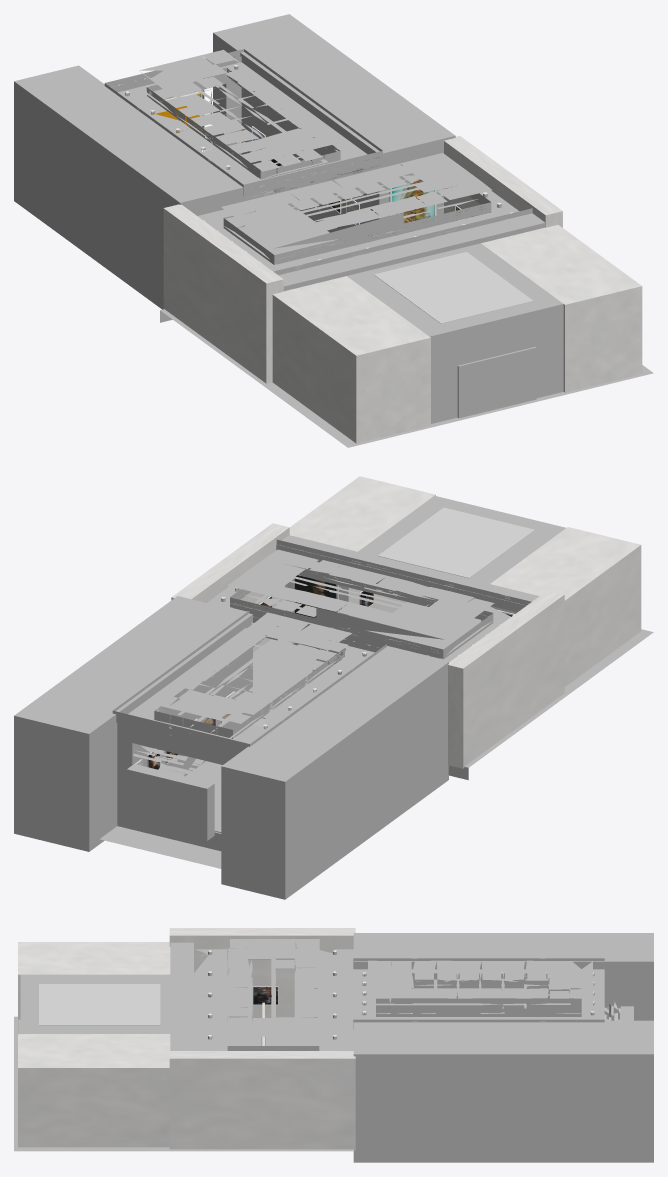
3 views of the same model, one above another, from view 1: azimuth 30°, elevation 25°; view 2: azimuth 150°, elevation 25°; view 3: azimuth 270°, elevation 25° (orthographic). The views are drawn at different scales.
Parts seen in each view (by area): view 1: marble walls_002, walls_003, marble walls_001, walls_008, walls_002, marble walls_004, roof_002, roof_001, roof_003, roof_005, rooflight_001, roof_004 (+6 smaller); view 2: marble walls_002, marble walls_001, walls_002, walls_003, roof_002, marble walls_003, roof_001, roof_005, walls_008, roof_003, rooflight_001, marble walls_004 (+5 smaller); view 3: marble walls_001, walls_001, walls_008, marble walls_002, roof_001, roof_003, roof_002, roof_005, walls_003, rooflight_001, walls_002, marble walls_004 (+4 smaller).
Part boxes in pixels (<box>): marble walls_002: <box>14,65,244,309</box>; walls_003: <box>272,276,430,443</box>; marble walls_001: <box>213,14,455,239</box>; walls_008: <box>481,224,642,392</box>; walls_002: <box>163,204,283,383</box>; marble walls_004: <box>347,243,563,423</box>; roof_002: <box>221,153,492,259</box>; roof_001: <box>137,49,347,177</box>; roof_003: <box>185,143,532,275</box>; roof_005: <box>104,49,382,195</box>; rooflight_001: <box>374,252,533,323</box>; roof_004: <box>279,213,545,291</box>; marble walls_002: <box>221,647,448,899</box>; marble walls_001: <box>14,596,252,851</box>; walls_002: <box>448,590,564,768</box>; walls_003: <box>490,527,641,686</box>; roof_002: <box>227,549,494,654</box>; marble walls_003: <box>117,718,244,851</box>; roof_001: <box>145,612,352,739</box>; roof_005: <box>112,610,386,752</box>; walls_008: <box>289,476,435,630</box>; roof_003: <box>207,539,531,662</box>; rooflight_001: <box>378,507,534,578</box>; marble walls_004: <box>358,495,565,583</box>; marble walls_001: <box>353,1020,653,1162</box>; walls_001: <box>169,1051,355,1150</box>; walls_008: <box>18,1034,169,1147</box>; marble walls_002: <box>353,933,653,1020</box>; roof_001: <box>368,960,593,1013</box>; roof_003: <box>194,949,353,1050</box>; roof_002: <box>227,939,319,1050</box>; roof_005: <box>353,958,604,1029</box>; walls_003: <box>18,942,169,1033</box>; rooflight_001: <box>39,984,160,1025</box>; walls_002: <box>169,928,355,1024</box>; marble walls_004: <box>20,974,170,1033</box>.
Size of the model in its own units: 15.56 by 6.46 by 31.21.
